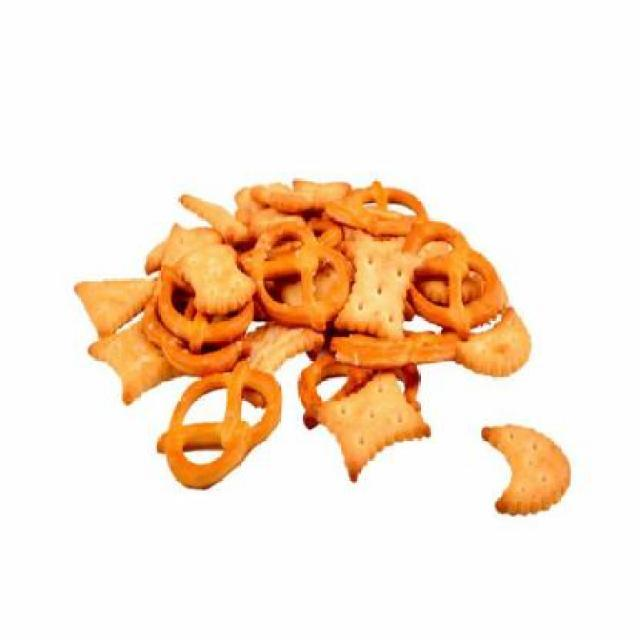Salatini packaged: (74, 158, 588, 527)
